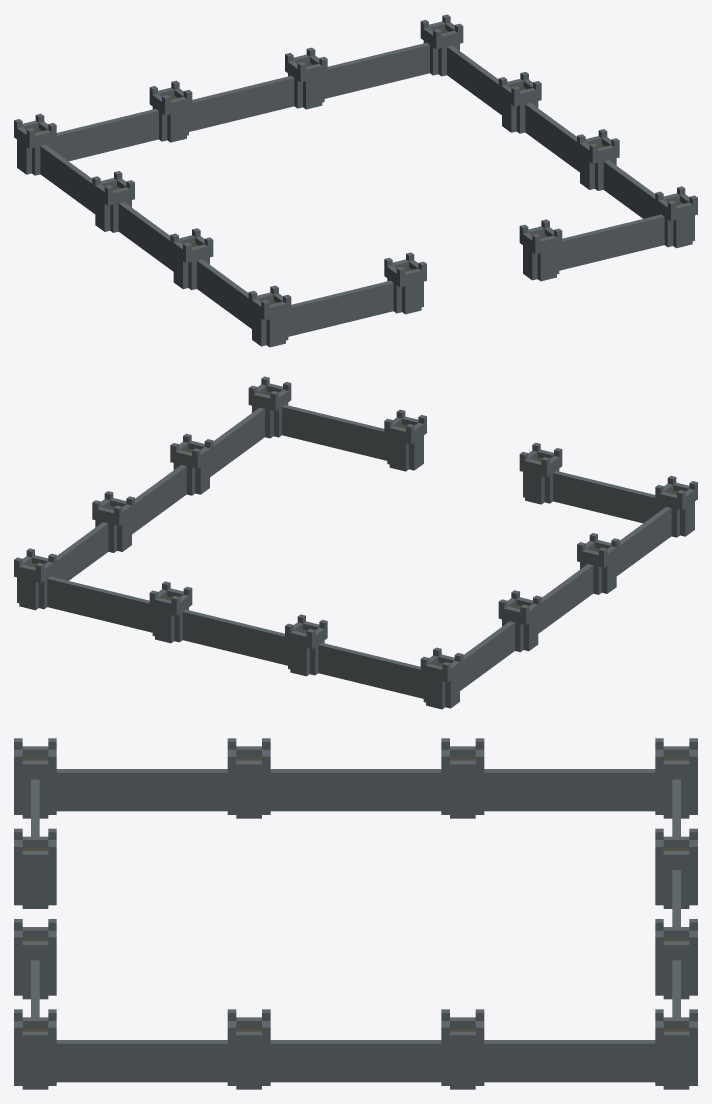
The model's file is wall_fence_overtile.obj.
3 views of the same model, one above another, from view 1: azimuth 30°, elevation 25°; view 2: azimuth 150°, elevation 25°; view 3: azimuth 270°, elevation 25° (orthographic). The views are drawn at different scales.
Bounding box in the file's own units: 8 × 0.8 × 8.
1 material, 1 textured.
